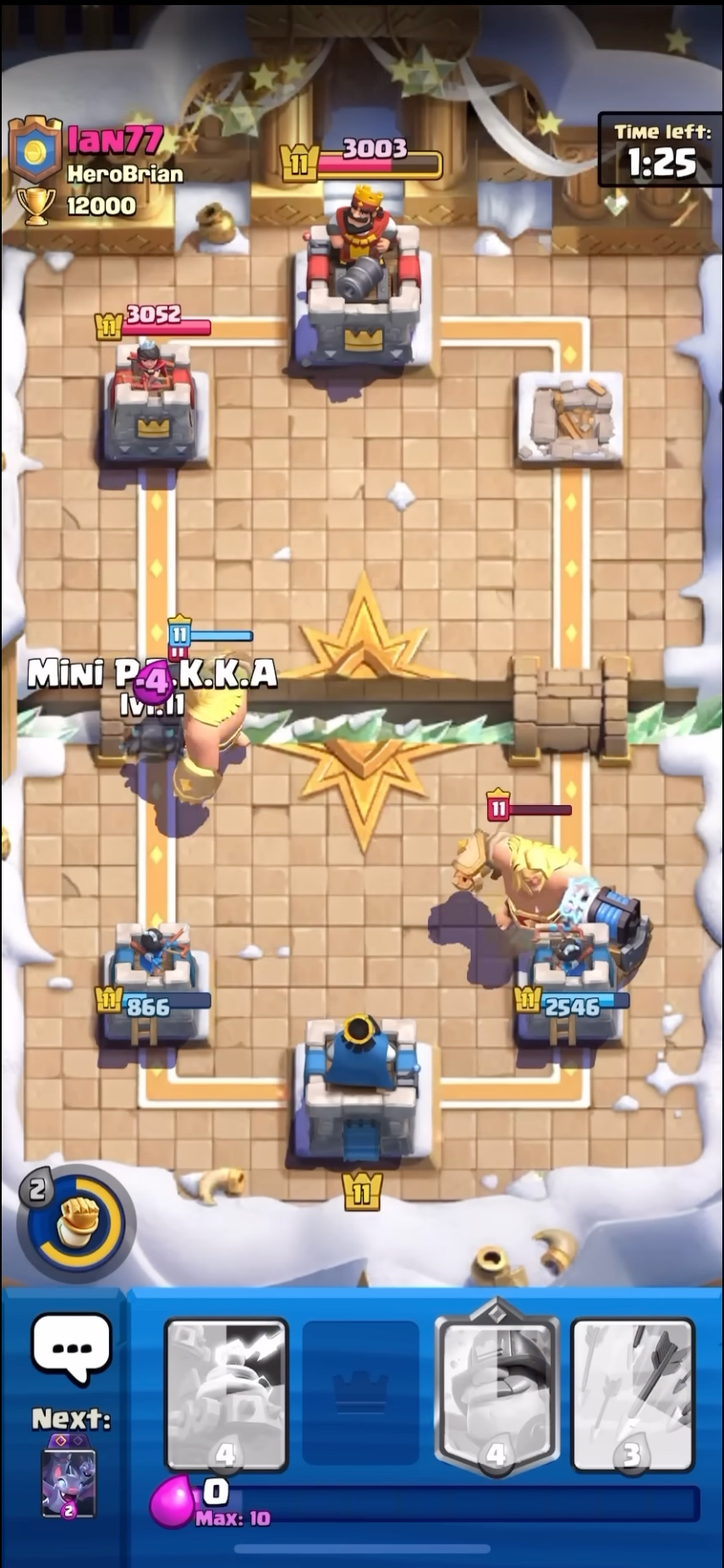hero-giant: (449, 789, 594, 952)
